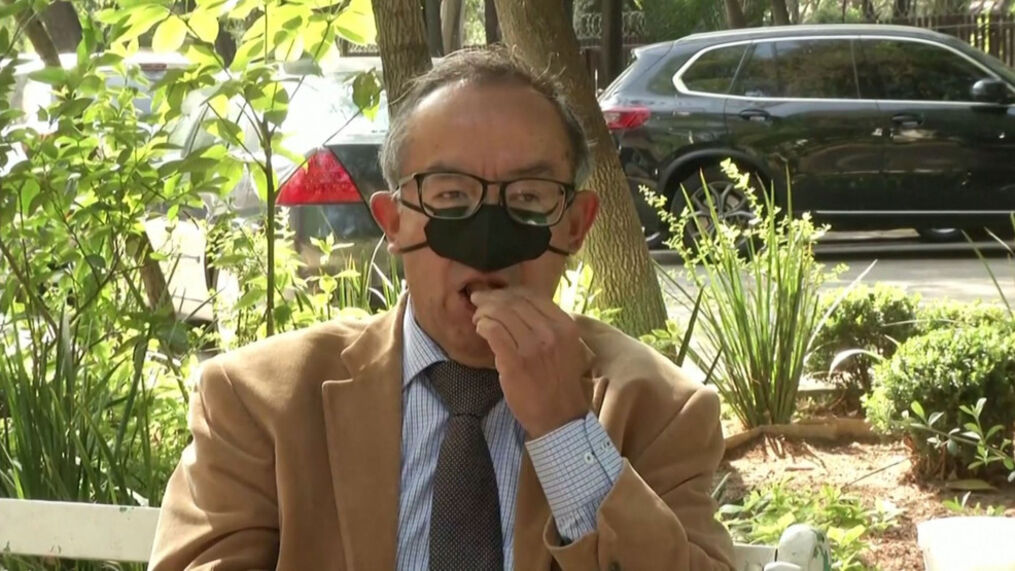with_incorrect_mask: (400, 101, 576, 371)
